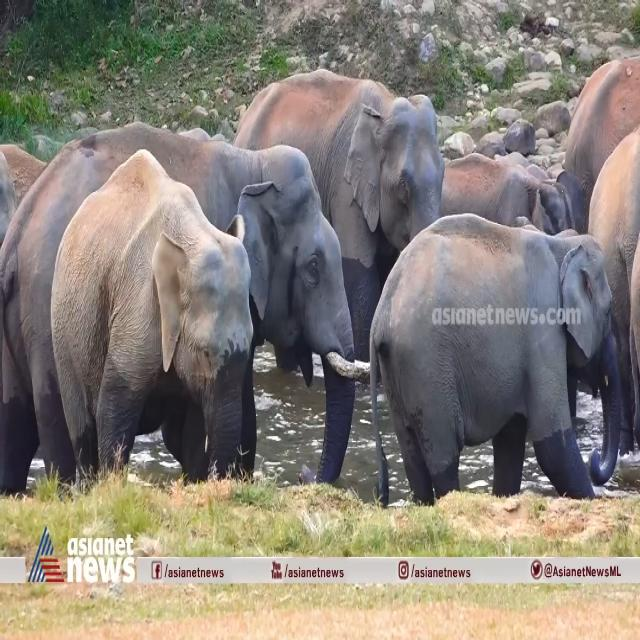ELEPHANT: (48, 146, 254, 476), (260, 146, 370, 490)
